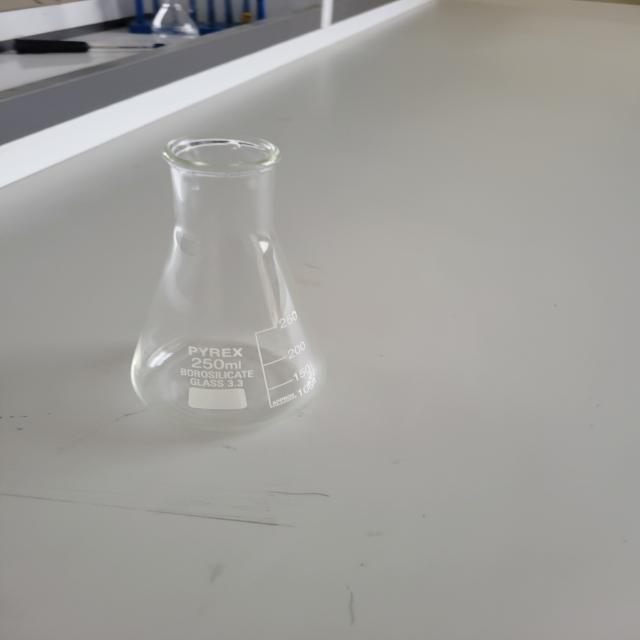Conical_Flask: (104, 106, 375, 448)
